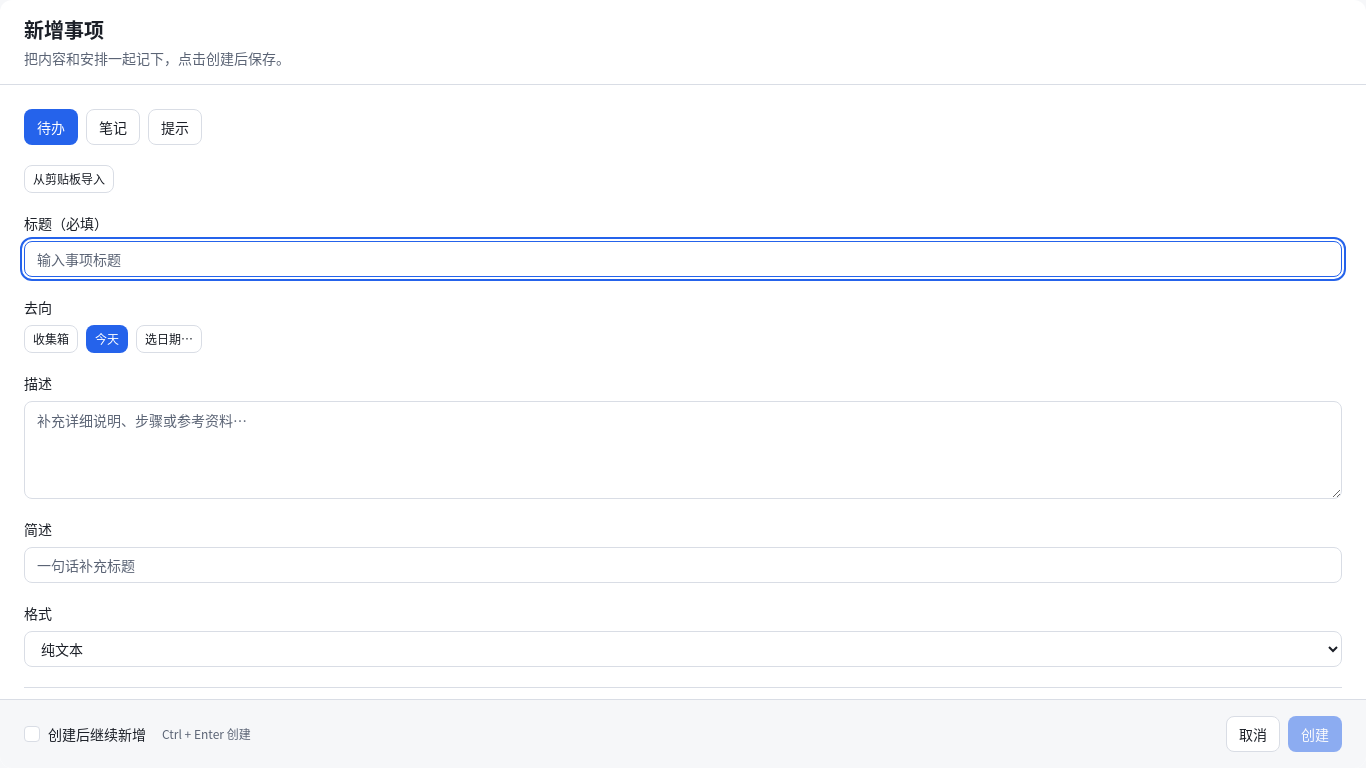
Test: 完整新增配置 › 失败保留全部输入，重试成功；窗口失焦不关闭
Later steps or results of the test are not shown.
Type "重试事项" into the field labelled "标题".
click(683, 259); type("重试事项")  # box [24, 241, 1342, 277]
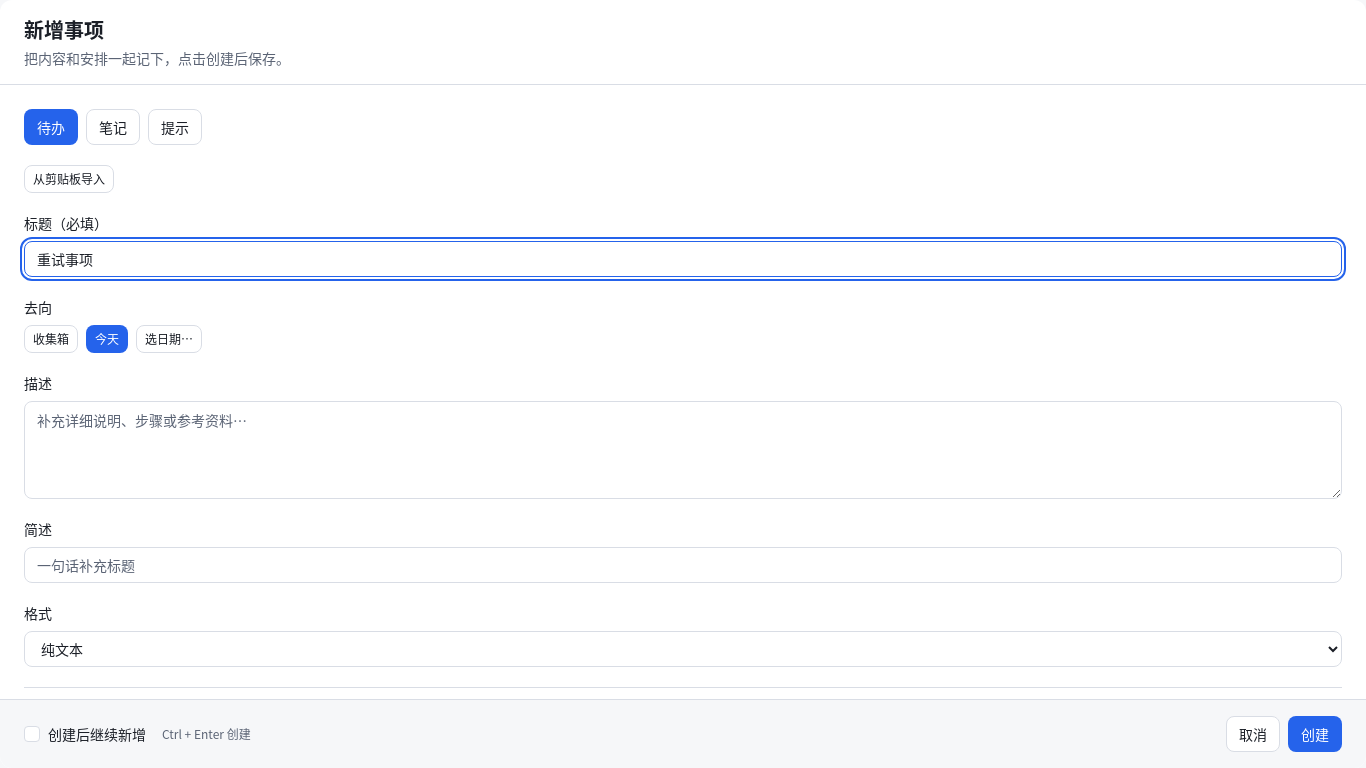
Type "保留详情" into the text box named "描述".
click(683, 450); type("保留详情")  # box [24, 401, 1342, 499]
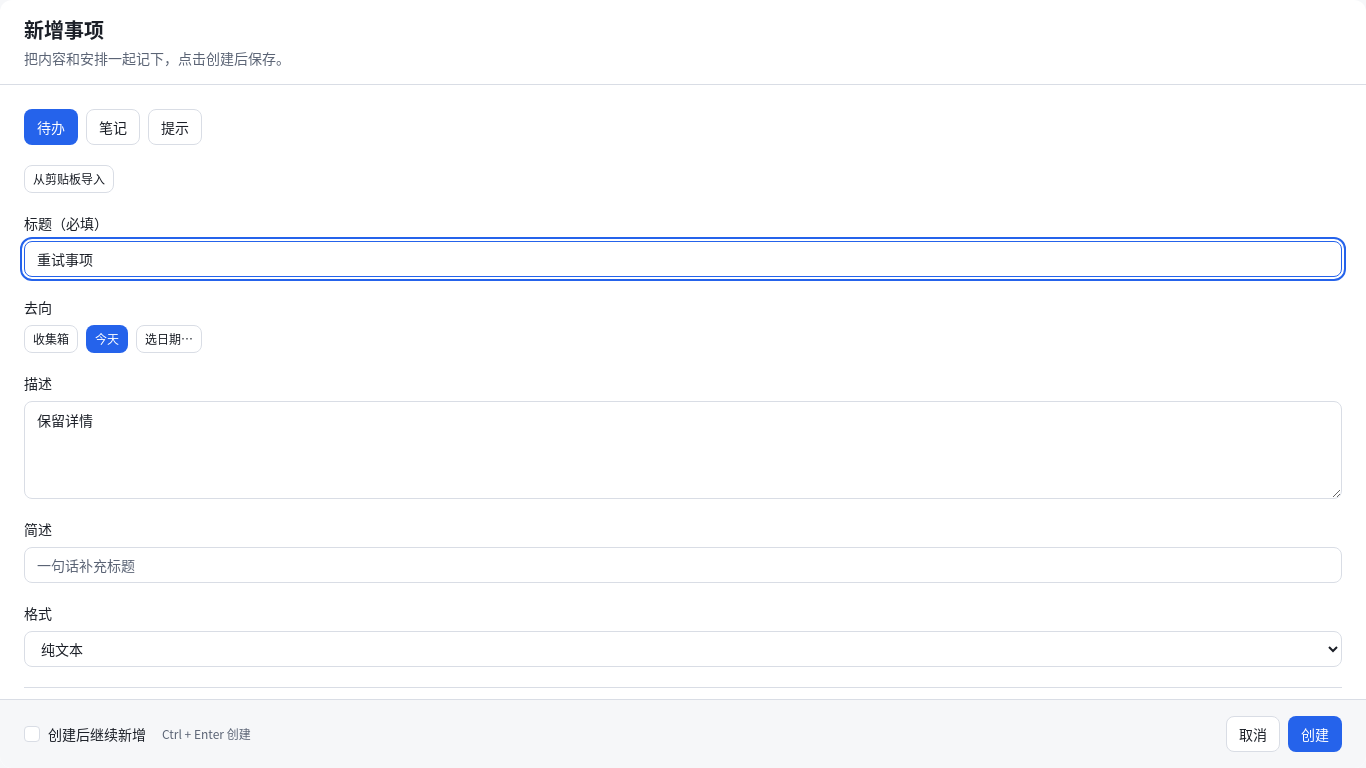
Click the button "创建".
click(1315, 734)  # box [1288, 716, 1342, 752]
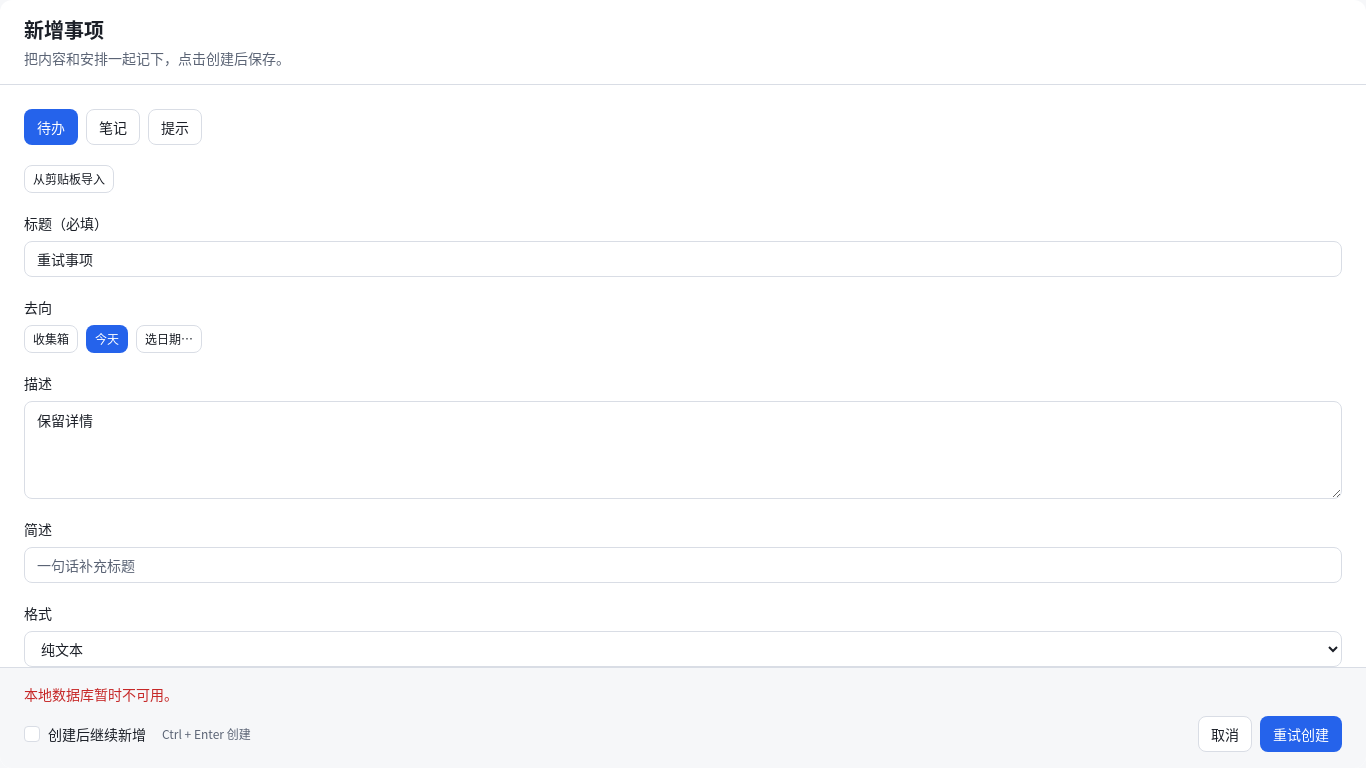
Result: the message shows "本地数据库暂时不可用" at [24, 684, 178, 704]
